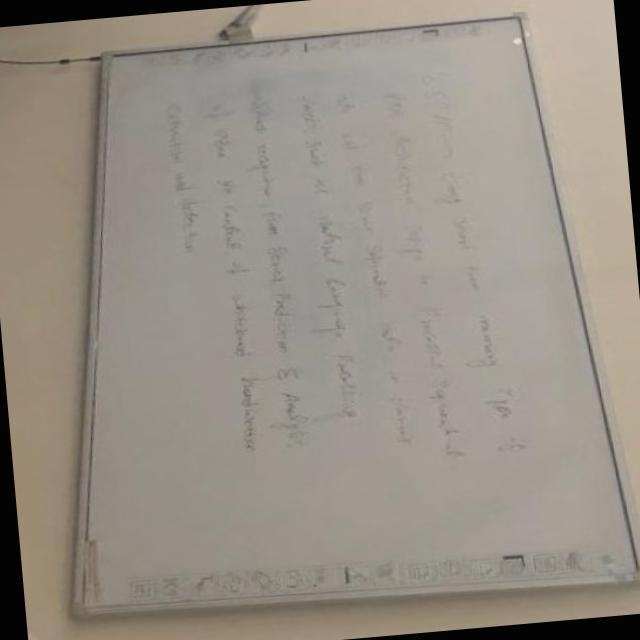White-board: (73, 15, 635, 612)
